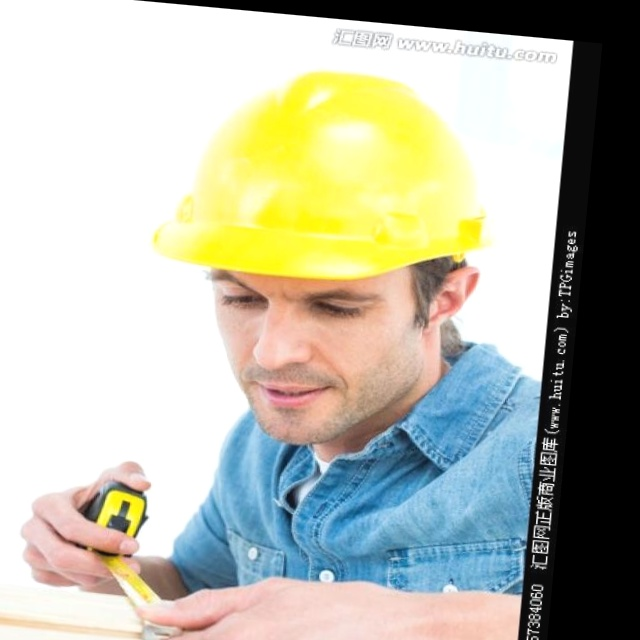Con_Casco: (137, 54, 500, 433)
